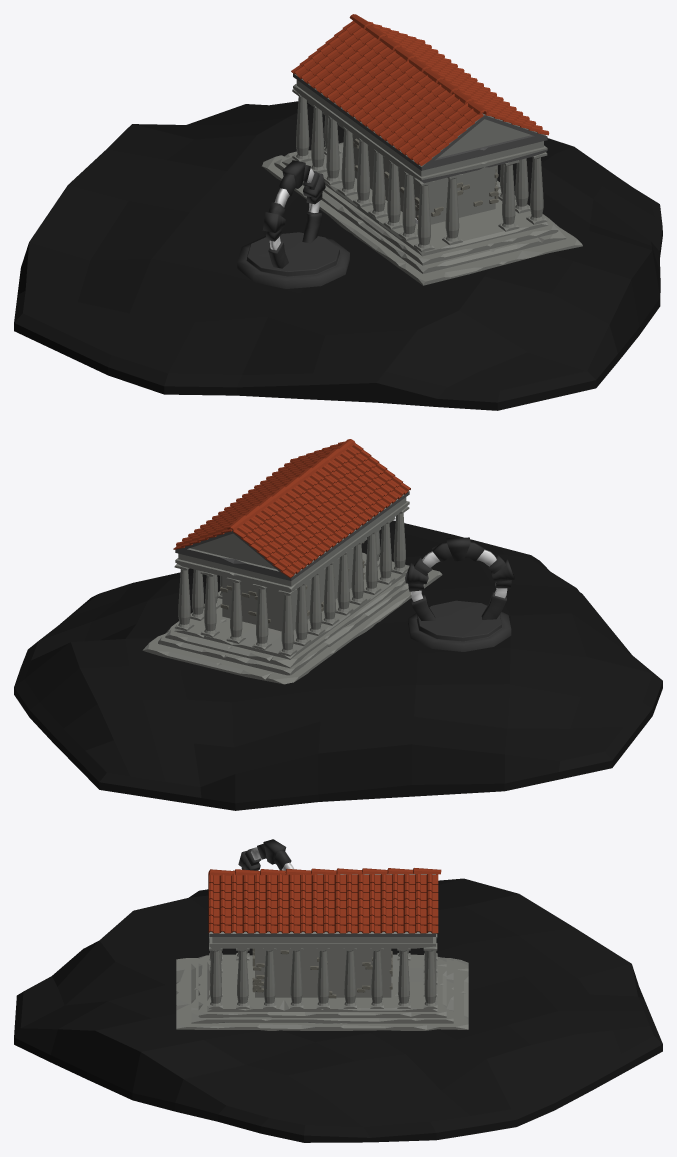
File: TEMPLEGAME.fbx
3 renders of one model, top to bottom at view 1: azimuth 30°, elevation 25°; view 2: azimuth 150°, elevation 25°; view 3: azimuth 270°, elevation 25°, orthographic. The views are drawn at different scales.
Parts seen in each view (by area): view 1: Circle, Cylinder.001, SM_Portal, Plane.002, Plane.005, Plane, Plane.006, Plane.007, Cube.021, Cylinder.002, Cube.016, Cube.004 (+12 smaller); view 2: Circle, Cylinder.001, SM_Portal, Plane.002, Plane.005, Plane, Plane.007, Plane.006, Cube.071, Cylinder.002, Cube, Cube.097 (+13 smaller); view 3: Circle, Cylinder.001, Plane.005, Plane, Cube.010, Plane.002, Plane.007, Plane.006, Cylinder.002, SM_Portal, Cube.101, Cube.016 (+7 smaller).
Part boxes in pixels (x1=…): Circle: x1=14, y1=100, x2=662, y2=410; Cylinder.001: x1=291, y1=21, x2=549, y2=166; SM_Portal: x1=237, y1=160, x2=349, y2=288; Plane.002: x1=293, y1=73, x2=547, y2=183; Plane.005: x1=262, y1=142, x2=582, y2=285; Plane: x1=292, y1=145, x2=548, y2=256; Plane.006: x1=274, y1=144, x2=566, y2=273; Plane.007: x1=282, y1=151, x2=558, y2=265; Cube.021: x1=428, y1=166, x2=495, y2=224; Cylinder.002: x1=349, y1=14, x2=488, y2=114; Cube.016: x1=526, y1=152, x2=547, y2=224; Cube.004: x1=414, y1=178, x2=434, y2=252; Circle: x1=14, y1=520, x2=662, y2=810; Cylinder.001: x1=173, y1=441, x2=410, y2=578; SM_Portal: x1=405, y1=537, x2=514, y2=651; Plane.002: x1=175, y1=491, x2=409, y2=592; Plane.005: x1=142, y1=552, x2=442, y2=684; Plane: x1=174, y1=559, x2=407, y2=659; Plane.007: x1=165, y1=555, x2=408, y2=668; Plane.006: x1=158, y1=583, x2=408, y2=675; Cube.071: x1=222, y1=576, x2=283, y2=631; Cylinder.002: x1=227, y1=439, x2=355, y2=530; Cube: x1=291, y1=547, x2=353, y2=630; Cube.097: x1=278, y1=589, x2=297, y2=656; Circle: x1=14, y1=878, x2=662, y2=1142; Cylinder.001: x1=208, y1=870, x2=438, y2=933; Plane.005: x1=176, y1=958, x2=468, y2=1030; Plane: x1=207, y1=954, x2=437, y2=1011; Cube.010: x1=256, y1=948, x2=390, y2=997; Plane.002: x1=209, y1=874, x2=435, y2=948; Plane.007: x1=198, y1=955, x2=446, y2=1017; Plane.006: x1=191, y1=957, x2=453, y2=1023; Cylinder.002: x1=209, y1=868, x2=441, y2=875; SM_Portal: x1=238, y1=839, x2=293, y2=870; Cube.101: x1=423, y1=943, x2=437, y2=1008; Cube.016: x1=209, y1=943, x2=222, y2=1008.
Bounding box in the file's own units: 1751 × 550 × 1840.
